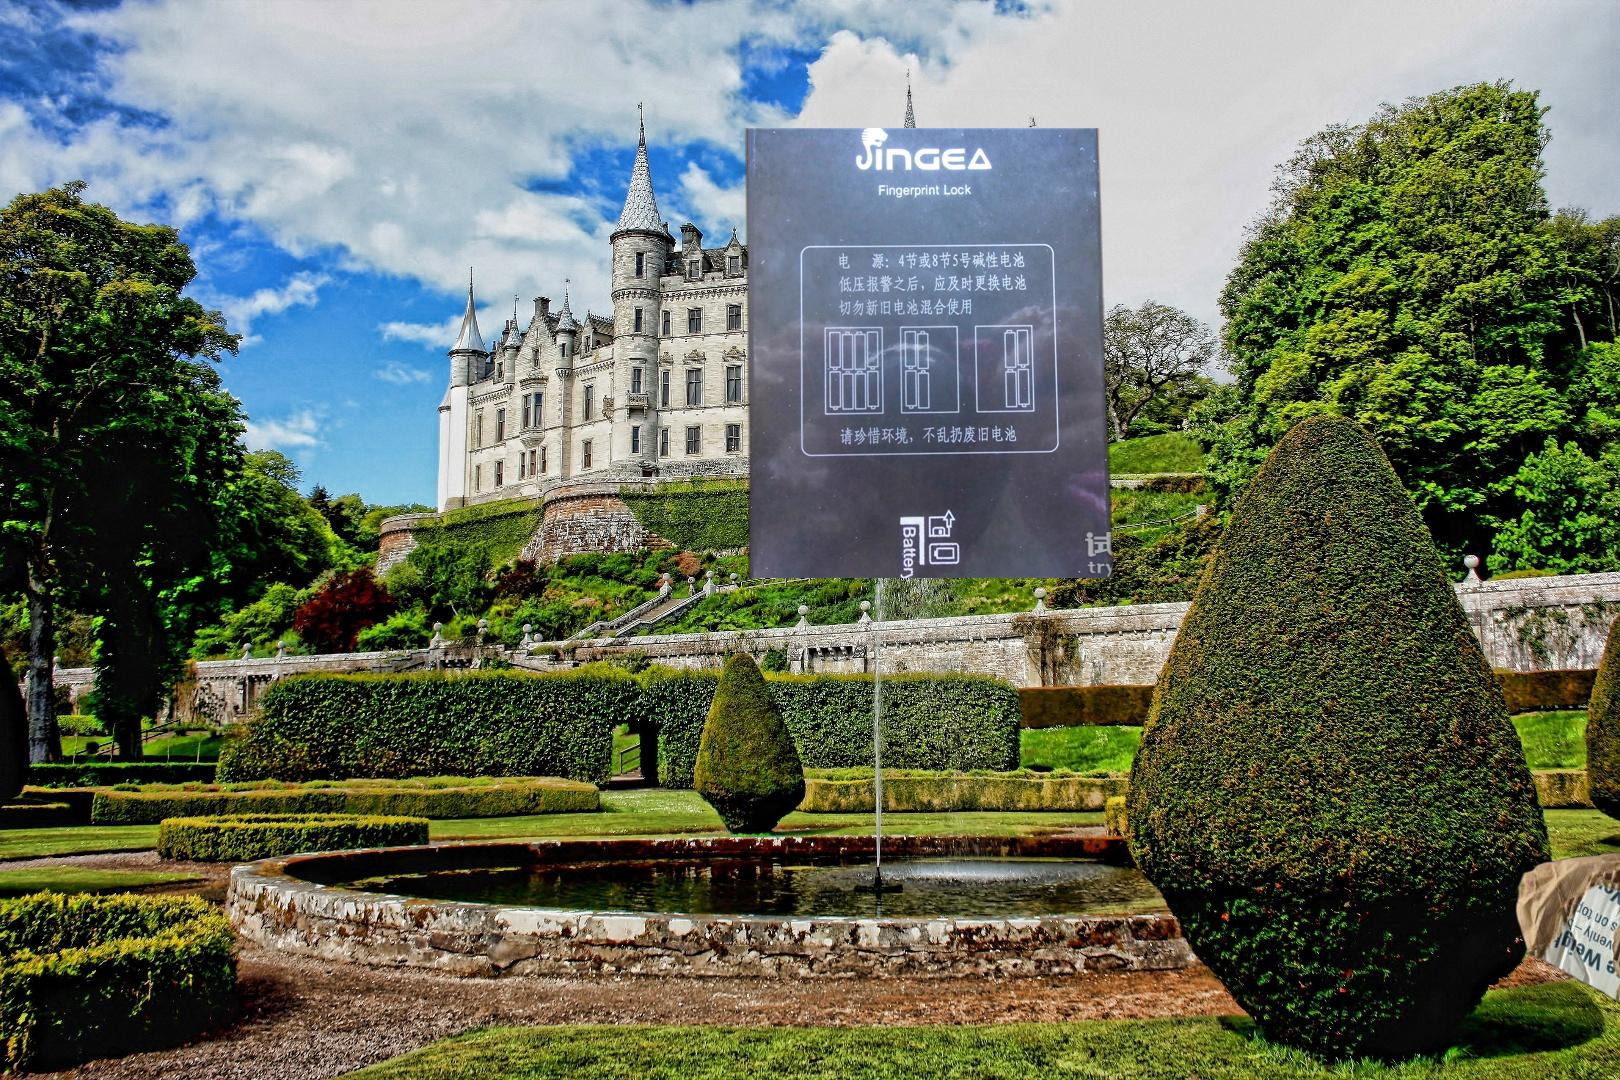battery: (740, 128, 1119, 579)
trashbox-cardboard: (1512, 849, 1620, 1014)
